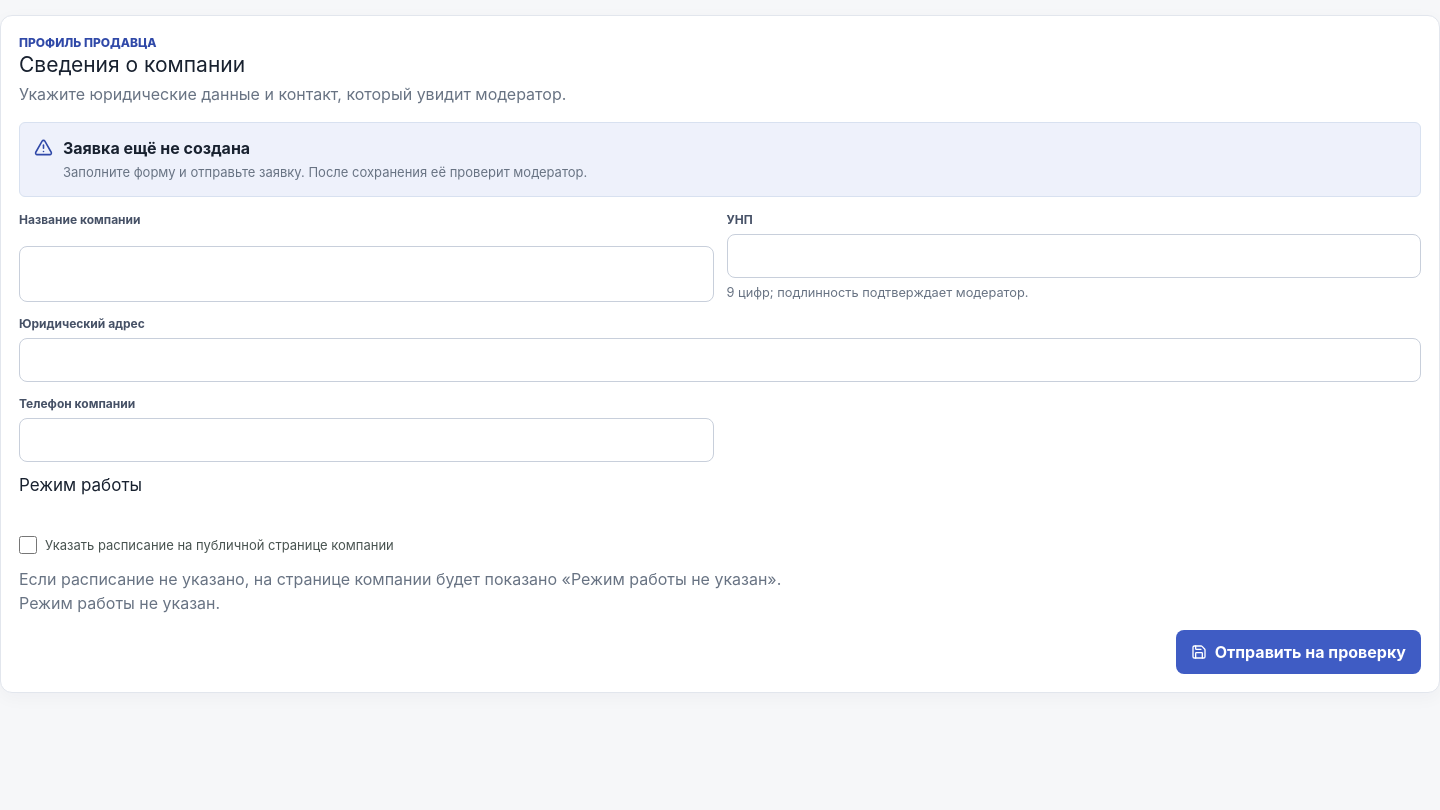
Test: company pilot status › creates a company and immediately presents the pending review state
The width and height of the screenshot is (1440, 810).
Type "Компания" into the field named "name" at (366,274), box [19,246,714,302]
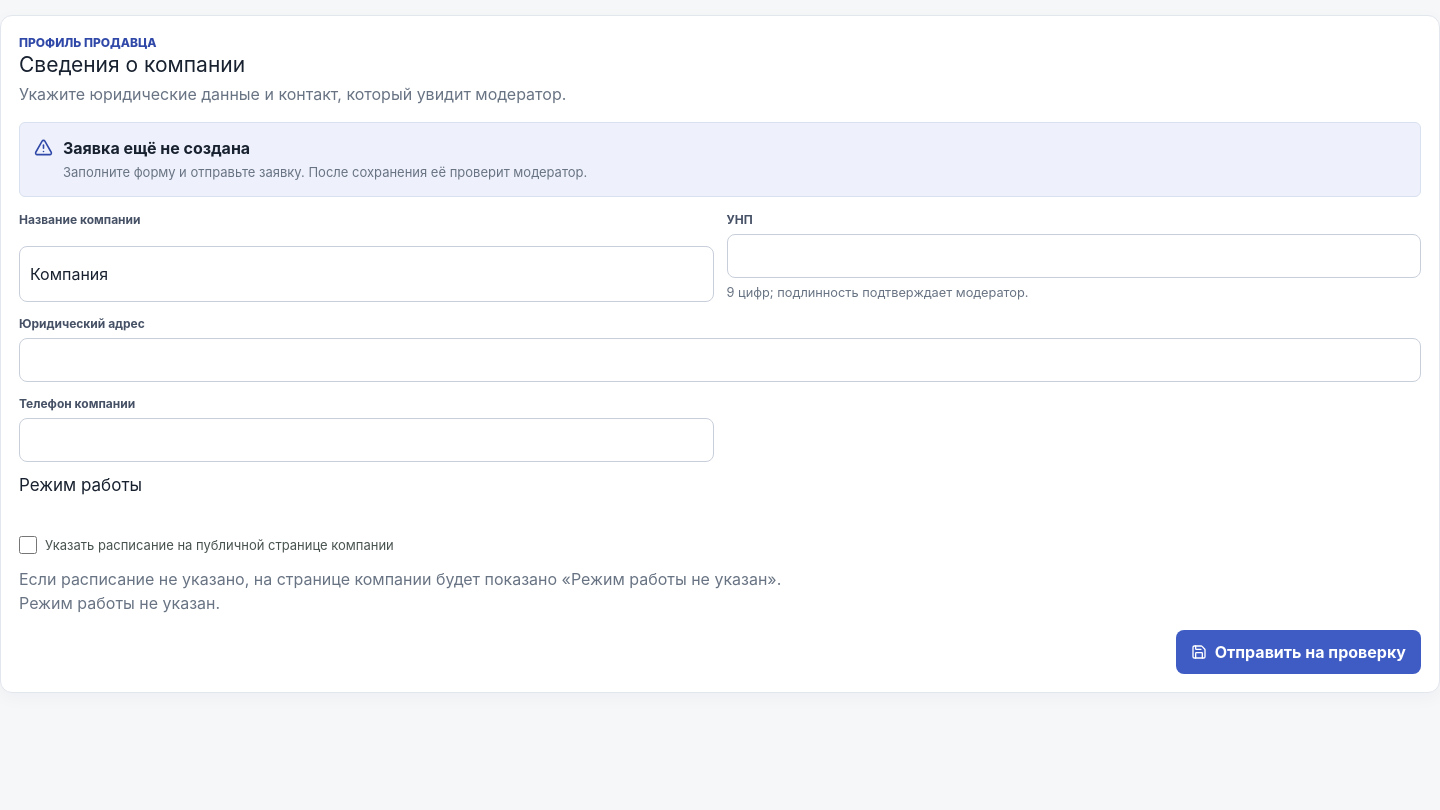
Type "123456789" into the field labelled "УНП 9 цифр; подлинность подтверждает модератор." at (1074,256), box [726,234,1421,278]
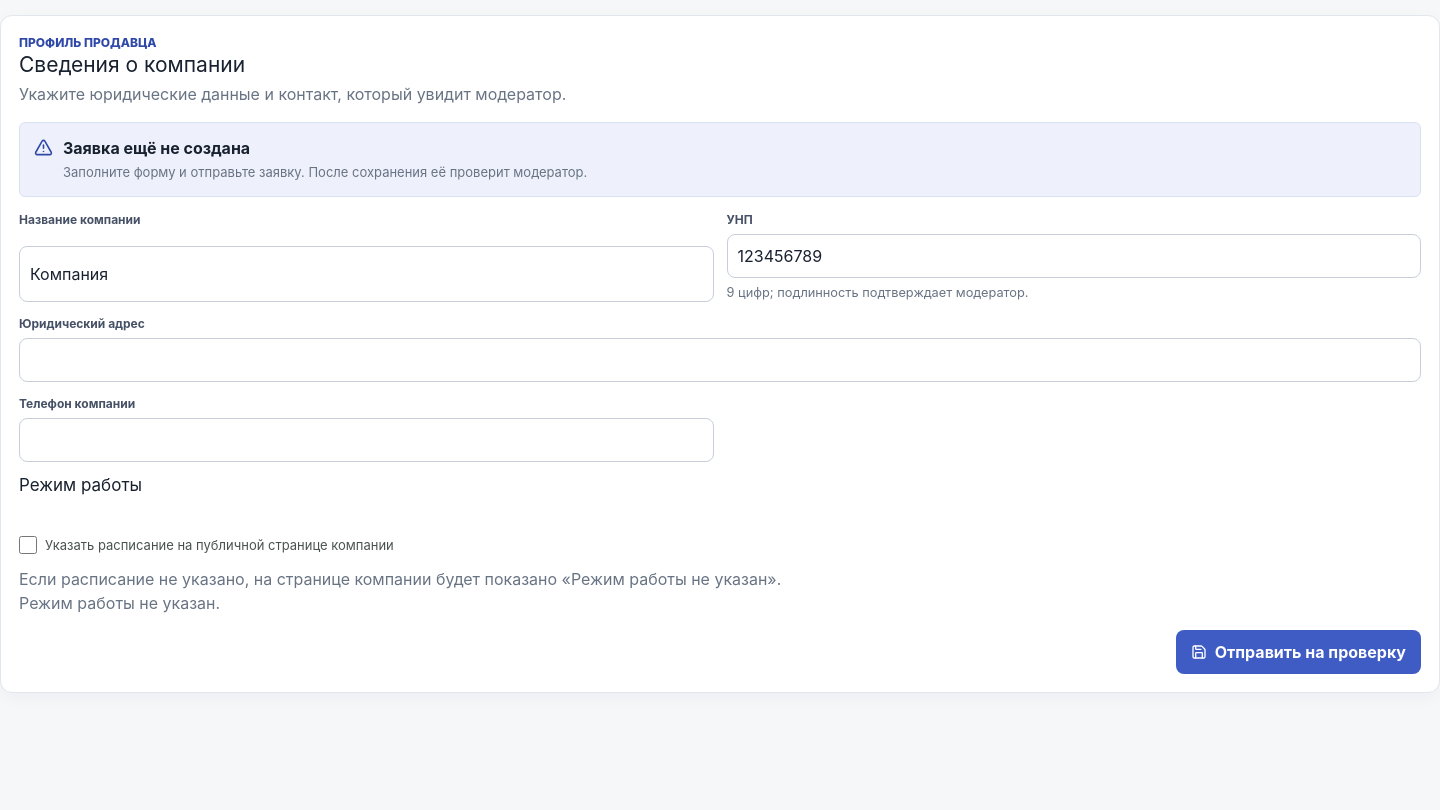
Type "Минск, улица 1" into the field labelled "Юридический адрес" at (720,360), box [19,338,1421,382]
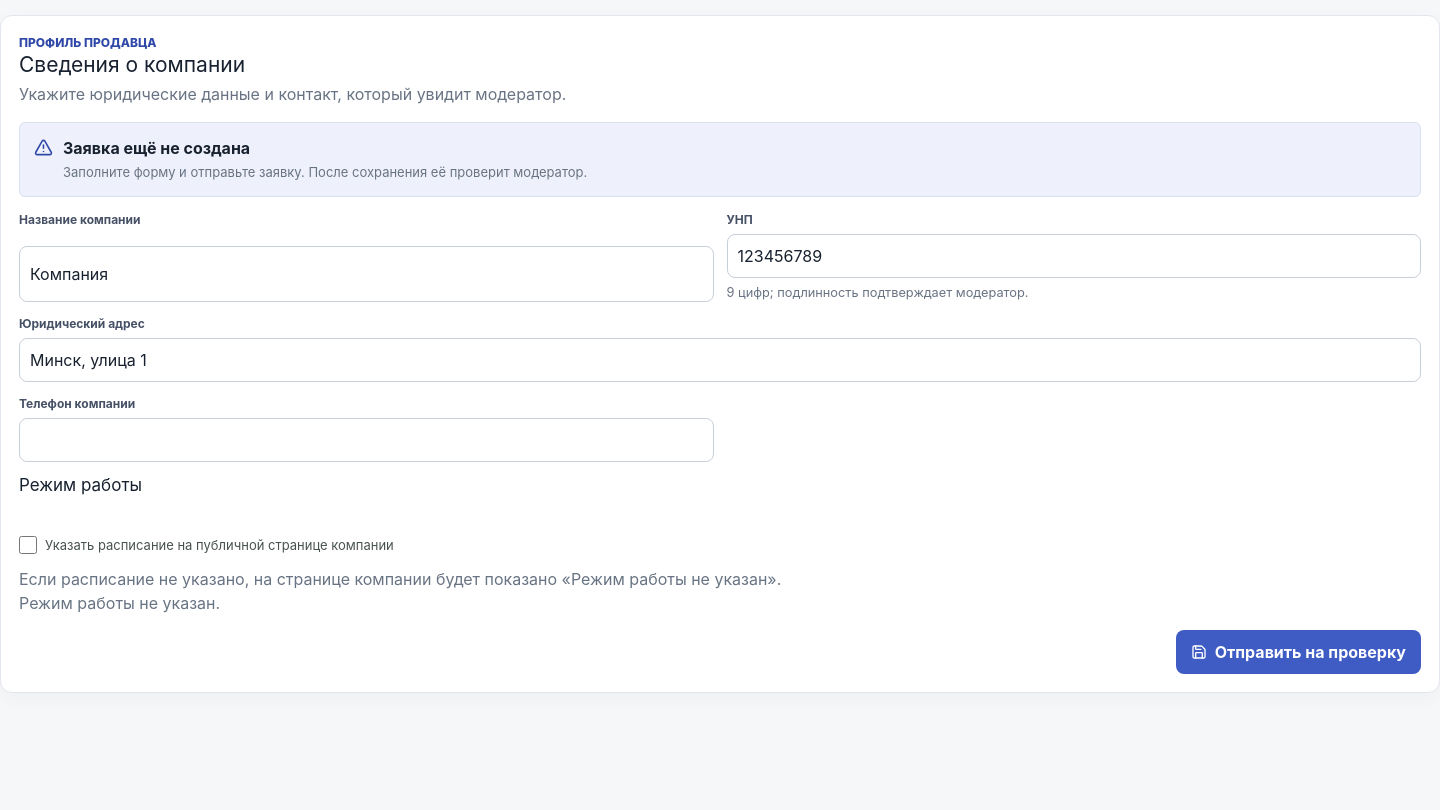
Type "+375291234567" into the field labelled "Телефон компании" at (366,440), box [19,418,714,462]
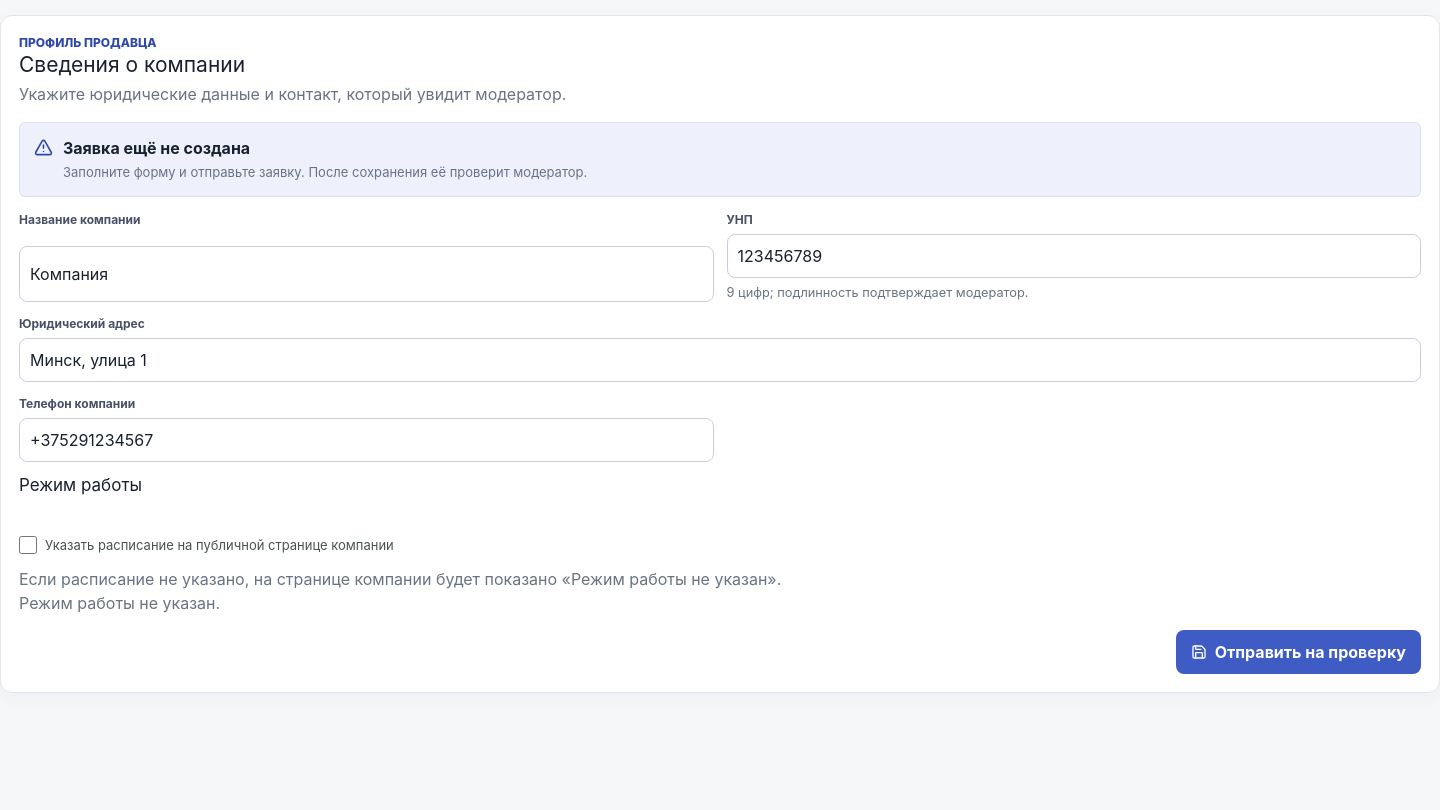
Submit the form, box [19,211,1421,674]
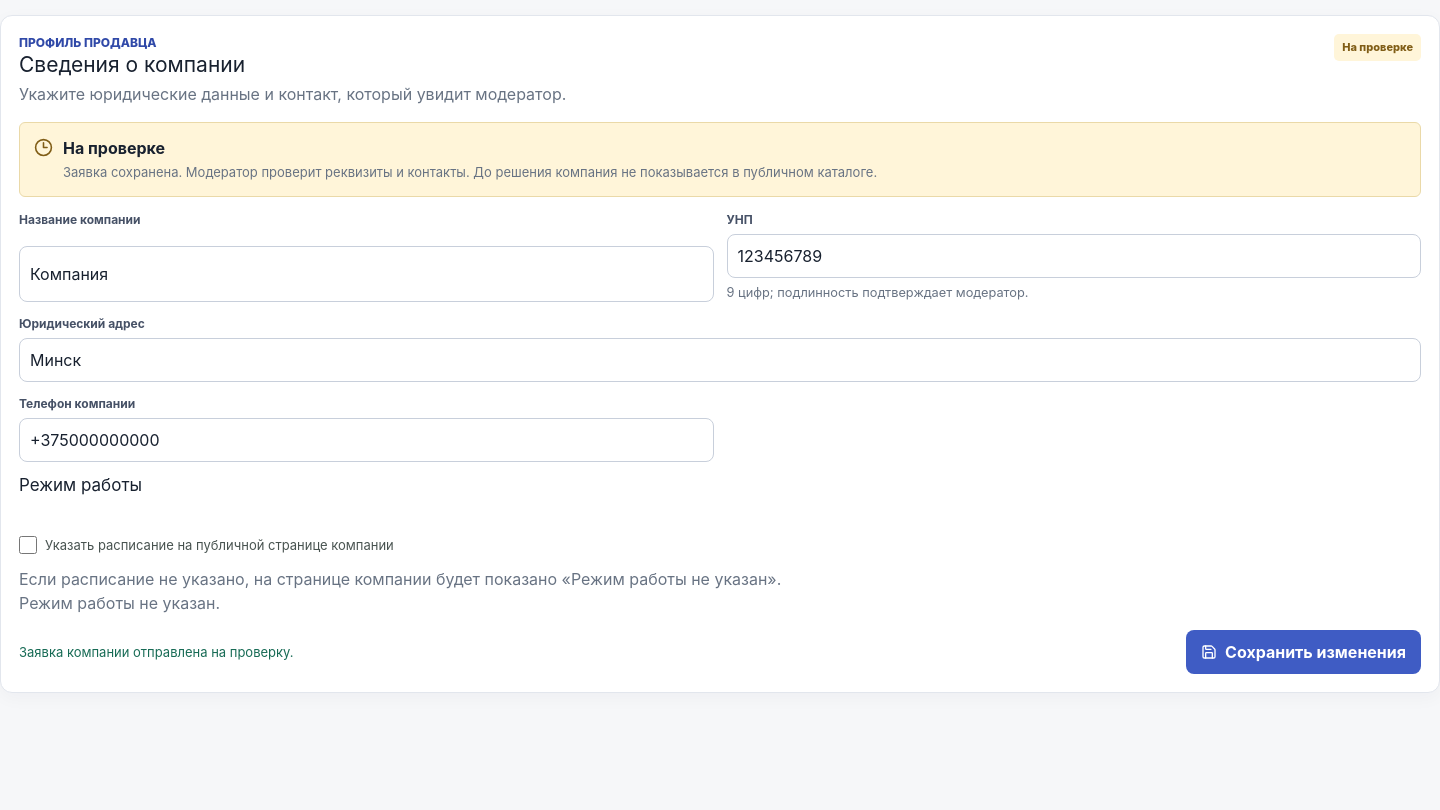
expect the text with class "status-pill" reads "На проверке": met, box [1342,40,1413,54]
expect the text "Заявка компании отправлена на проверку." is shown: met, box [19,642,294,662]
